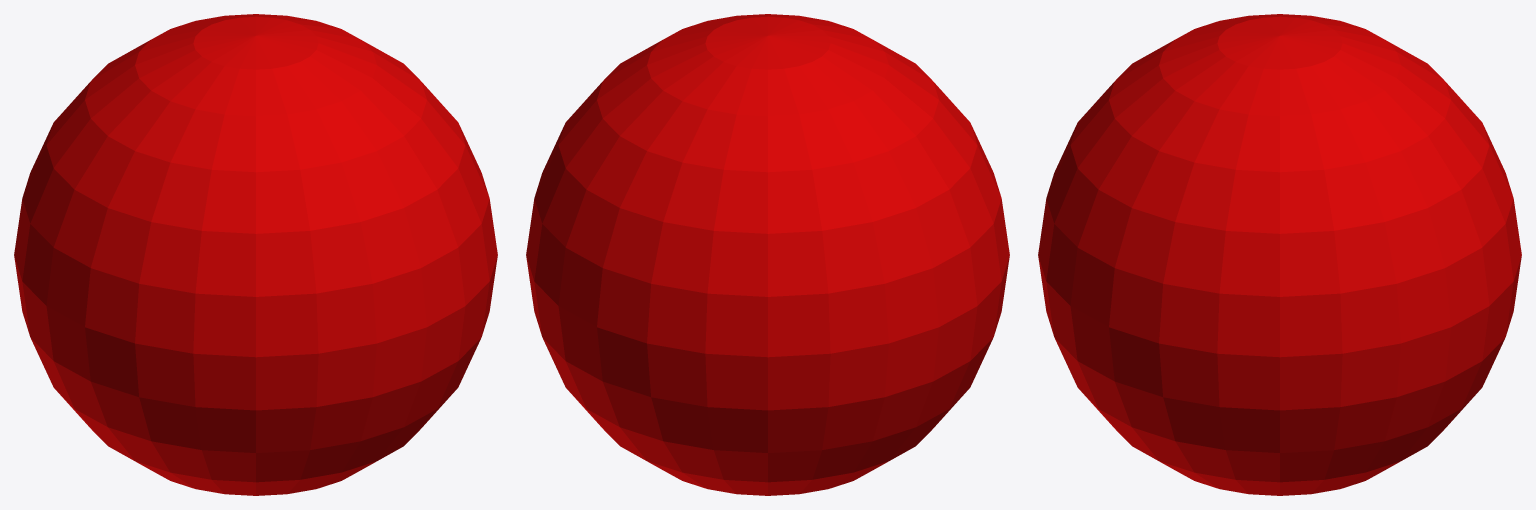
The model's file is Fur-Sphere-01.fbx.
The picture shows the model from 3 angles, left to right: view 1: azimuth 30°, elevation 25°; view 2: azimuth 150°, elevation 25°; view 3: azimuth 270°, elevation 25°; orthographic projection.
Visible parts, largest first — view 1: Mul_Mesh; view 2: Mul_Mesh; view 3: Mul_Mesh.
Boxes of the visible parts, x1,y1,x2,y2 form: Mul_Mesh: (14, 14, 497, 495); Mul_Mesh: (526, 14, 1009, 495); Mul_Mesh: (1038, 14, 1521, 495).
Bounding box in the file's own units: 6.33 × 6.33 × 6.33.
